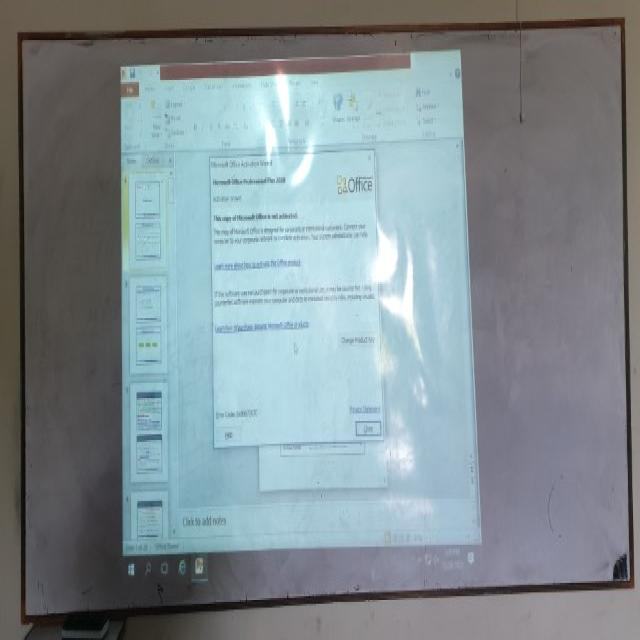Slide: (120, 53, 486, 594)
White-board: (19, 22, 635, 615)
